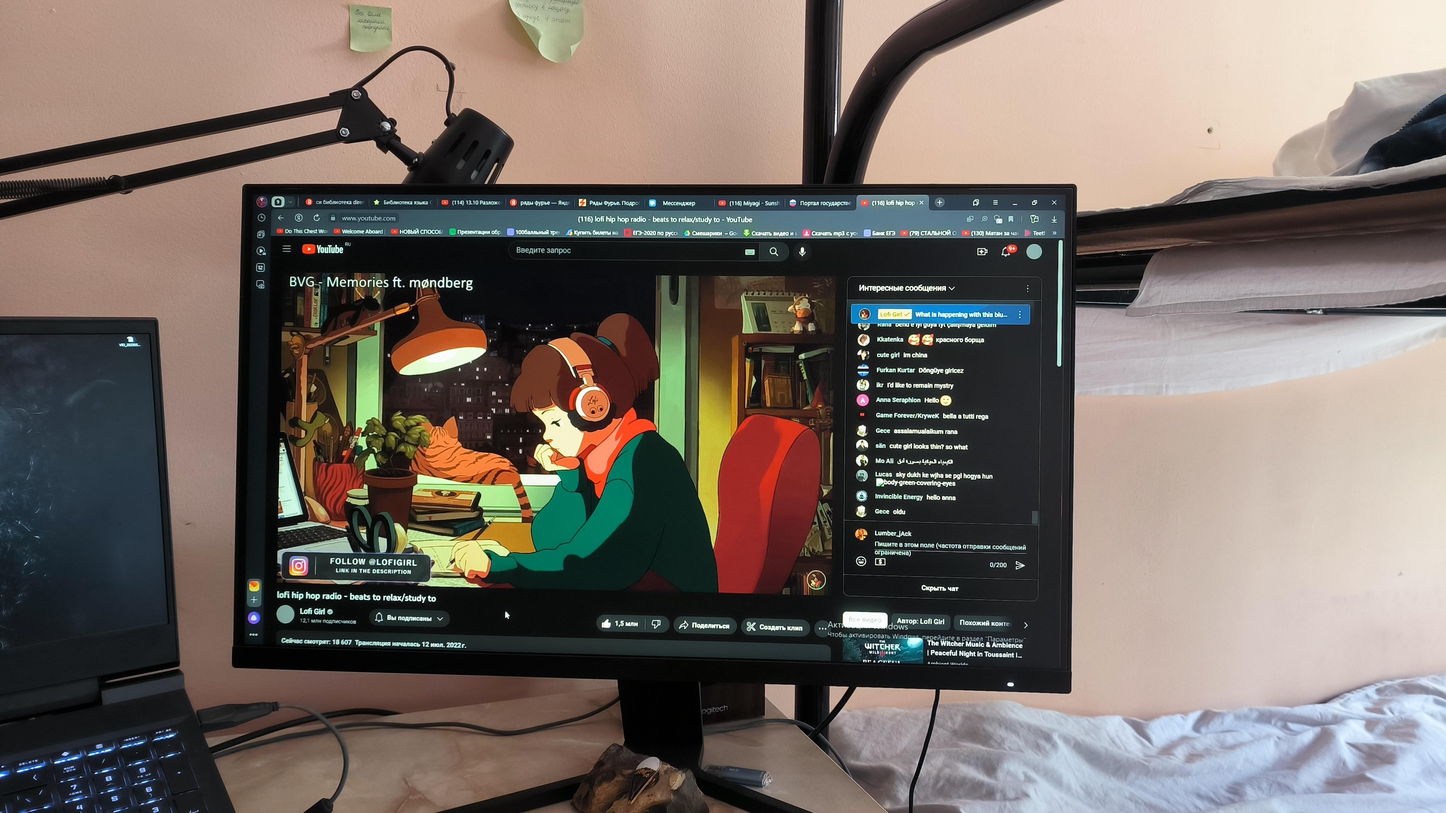monitor: (222, 171, 1082, 698), (0, 311, 199, 721)
